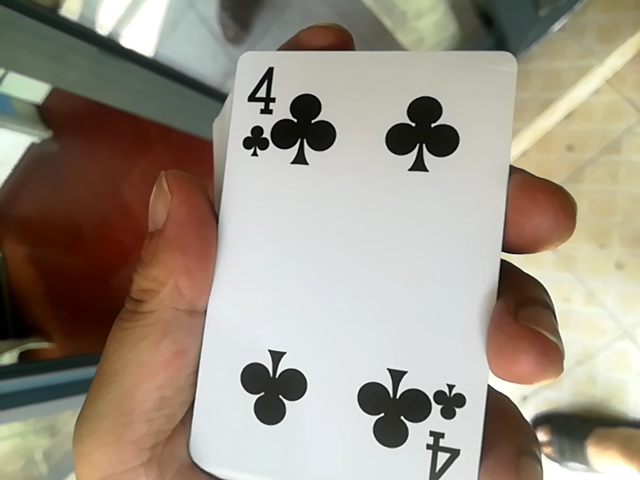mh 4: (179, 45, 502, 473)
